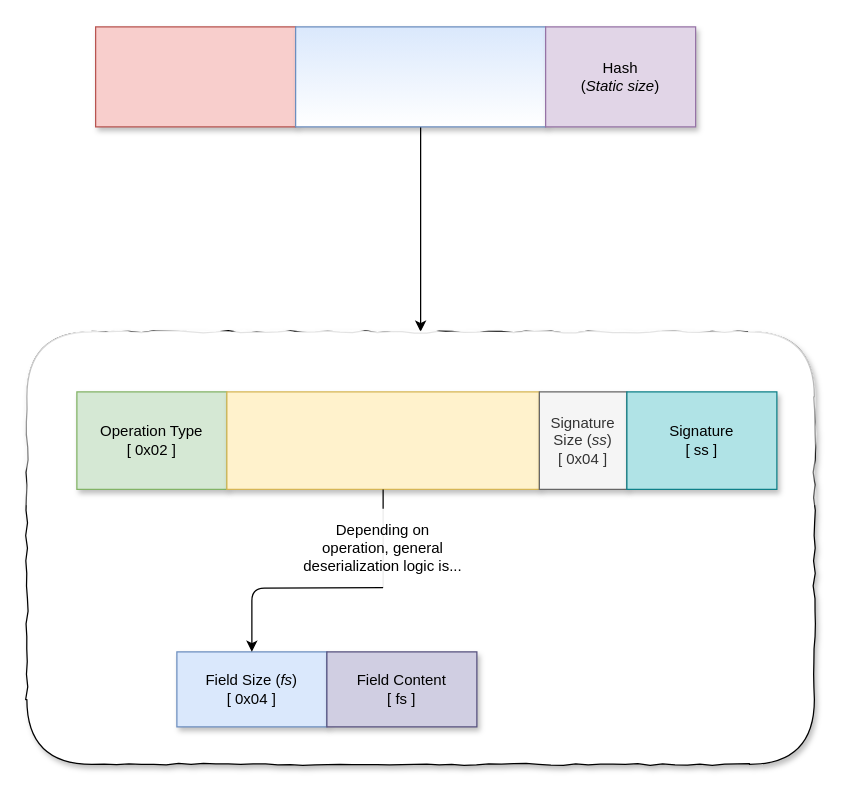
Some shapes in this 844 by 795 pixel diagram are drawn without their labels. The shapes that lost their labels are listed below. From the top down, each one's centre as x and y in pixels, then its label:
At (x=196, y=78): "Size Of Message [ 0x04 ]".
At (x=421, y=78): "Message".
At (x=384, y=442): "Operation Content [ 0 .. n ]".
